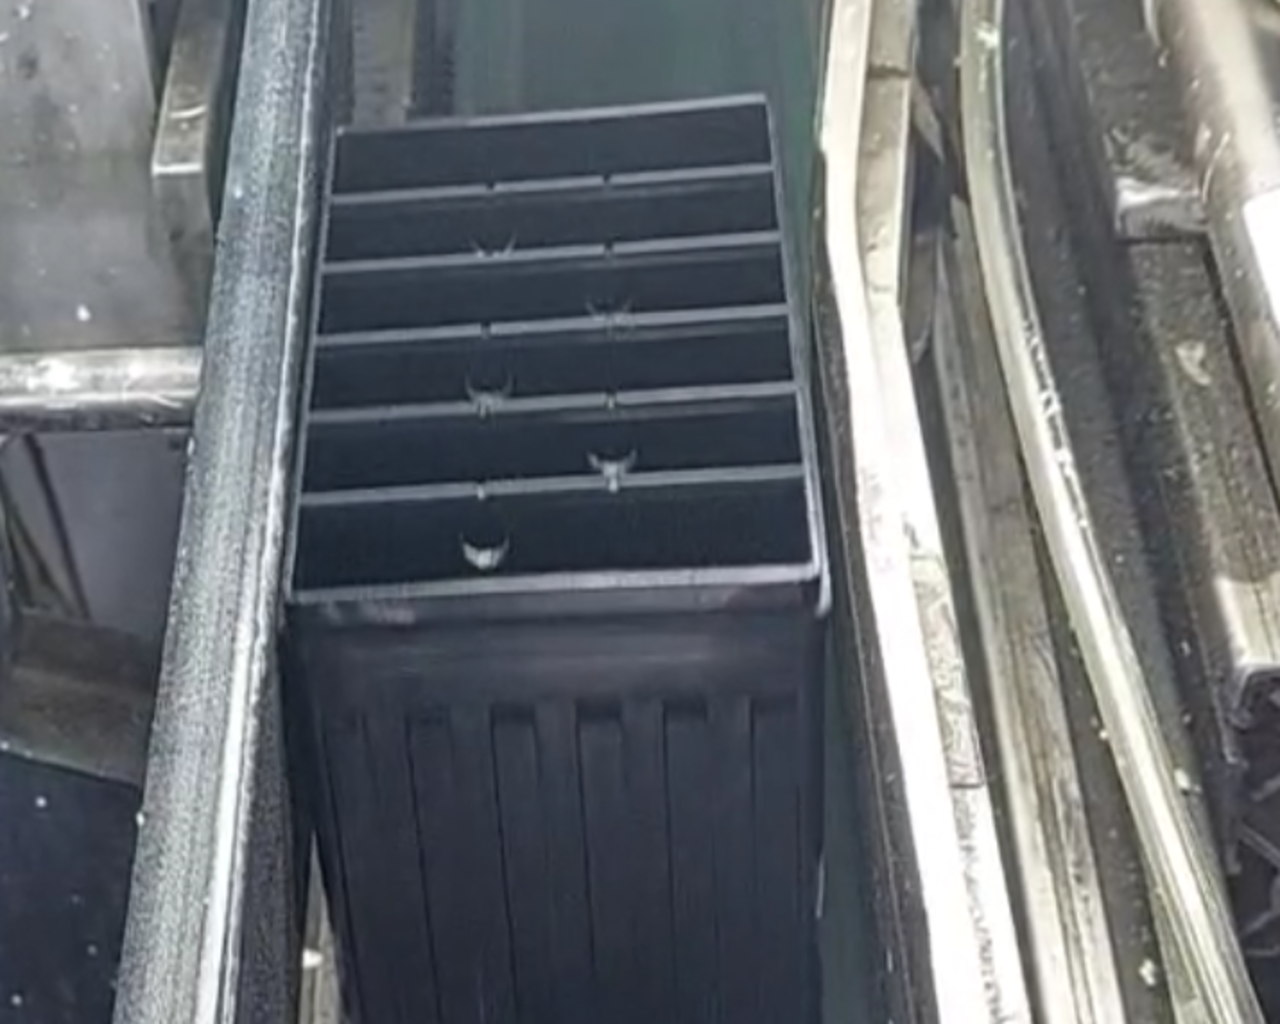box: (265, 69, 856, 650)
round: (569, 413, 656, 487), (442, 345, 533, 414), (444, 505, 527, 575), (561, 259, 649, 325), (445, 203, 530, 267)
